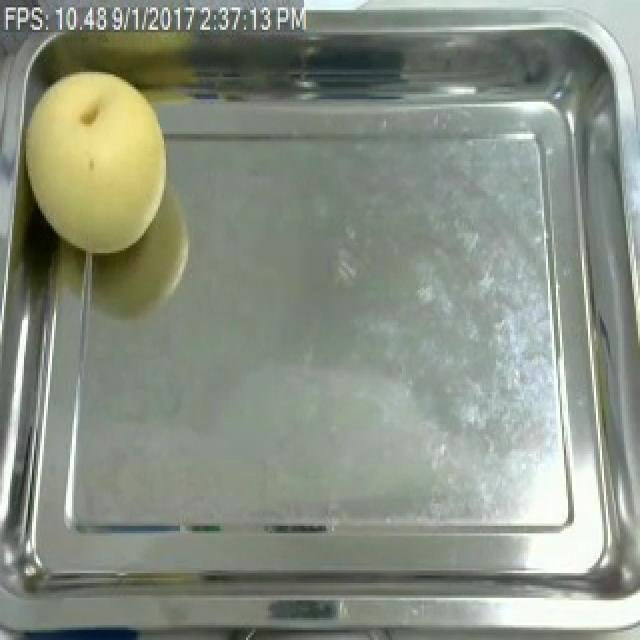Fruit: (12, 59, 178, 263)
